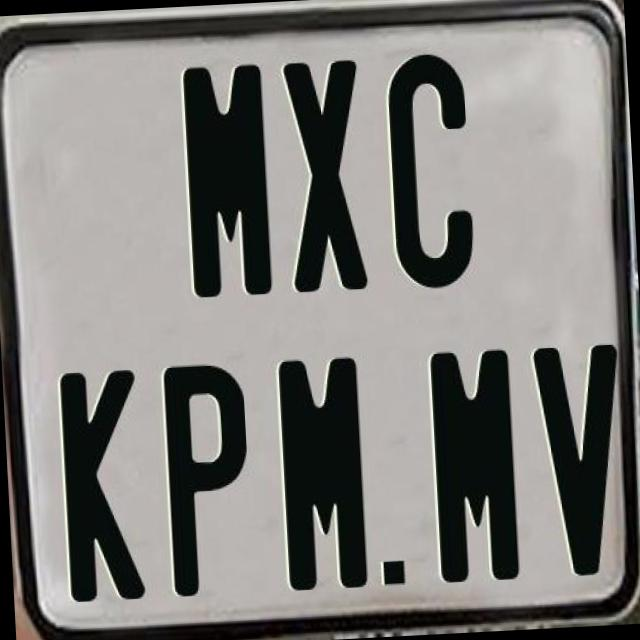C: (386, 53, 482, 292)
K: (59, 365, 150, 604)
M: (428, 345, 522, 580), (276, 352, 366, 590), (181, 58, 272, 293)
P: (160, 362, 258, 606)
V: (529, 341, 627, 574)
X: (282, 58, 372, 301)
